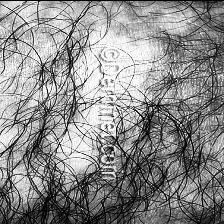Potentially Malignant Skin Tumors: (168, 6, 196, 26)
